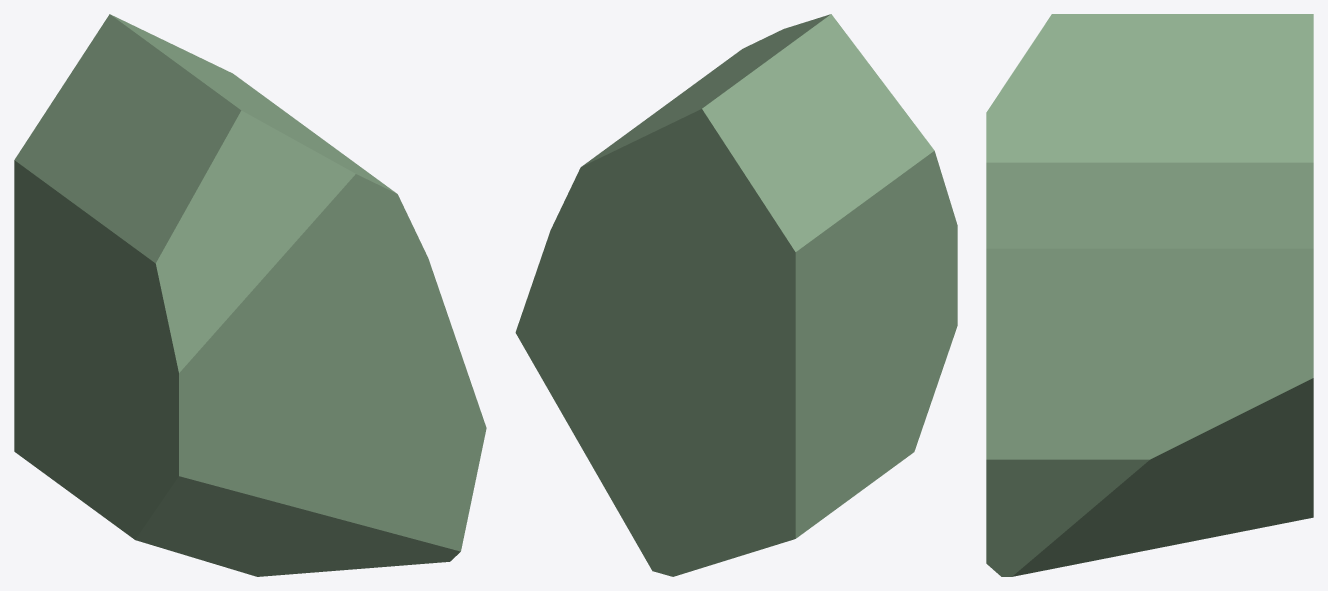
The model's file is convex_rock3.obj.
3 views of the same model, side by side, from view 1: azimuth 30°, elevation 25°; view 2: azimuth 150°, elevation 25°; view 3: azimuth 270°, elevation 25° (orthographic).
Parts seen in each view (by area): view 1: rock3\Solid; view 2: rock3\Solid; view 3: rock3\Solid.
Boxes of the visible parts, x1=… form: rock3\Solid: x1=14, y1=14, x2=486, y2=576; rock3\Solid: x1=515, y1=14, x2=957, y2=576; rock3\Solid: x1=986, y1=14, x2=1313, y2=576.
Bounding box in the file's own units: 658 × 989 × 611.
